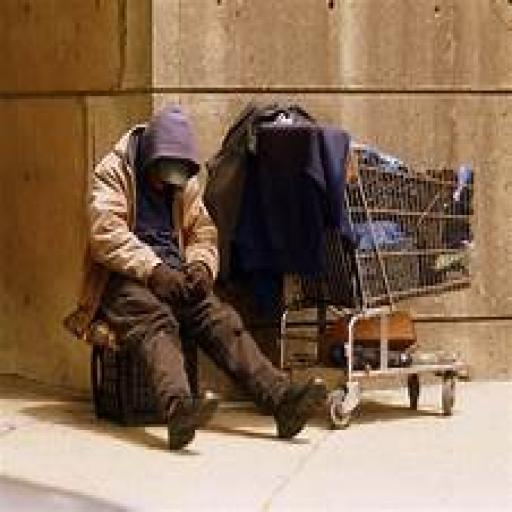shopping_cart: (261, 142, 475, 418)
